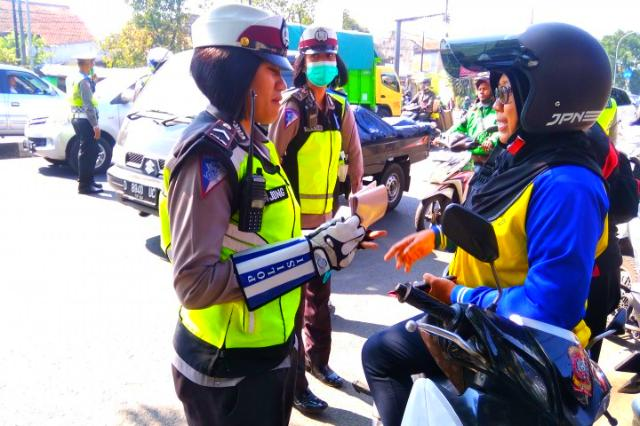helm: (437, 22, 620, 149)
motor: (383, 200, 640, 426)
